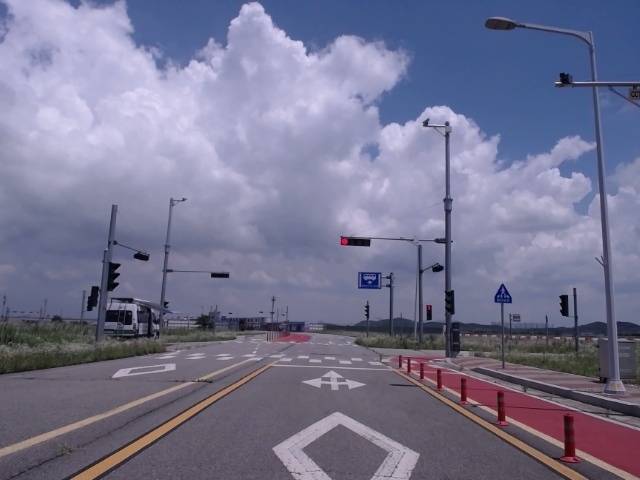red_4: (341, 238, 370, 247)
